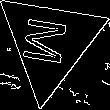M_E: (23, 16, 77, 70)
